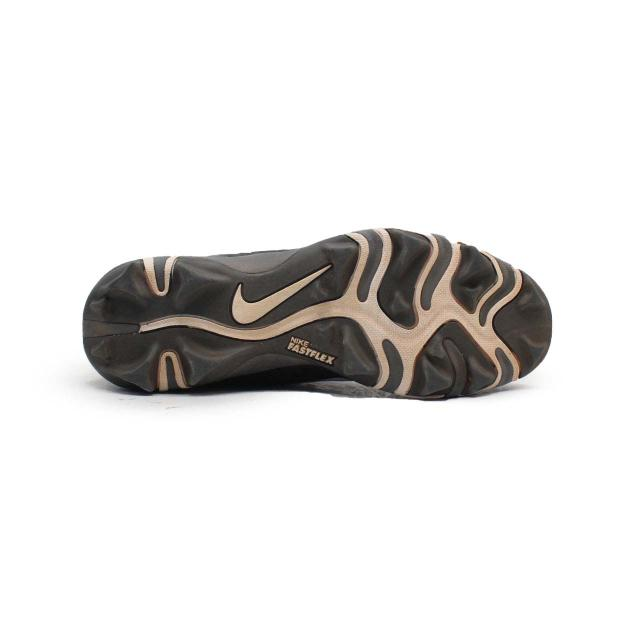outersole: (83, 229, 552, 405)
